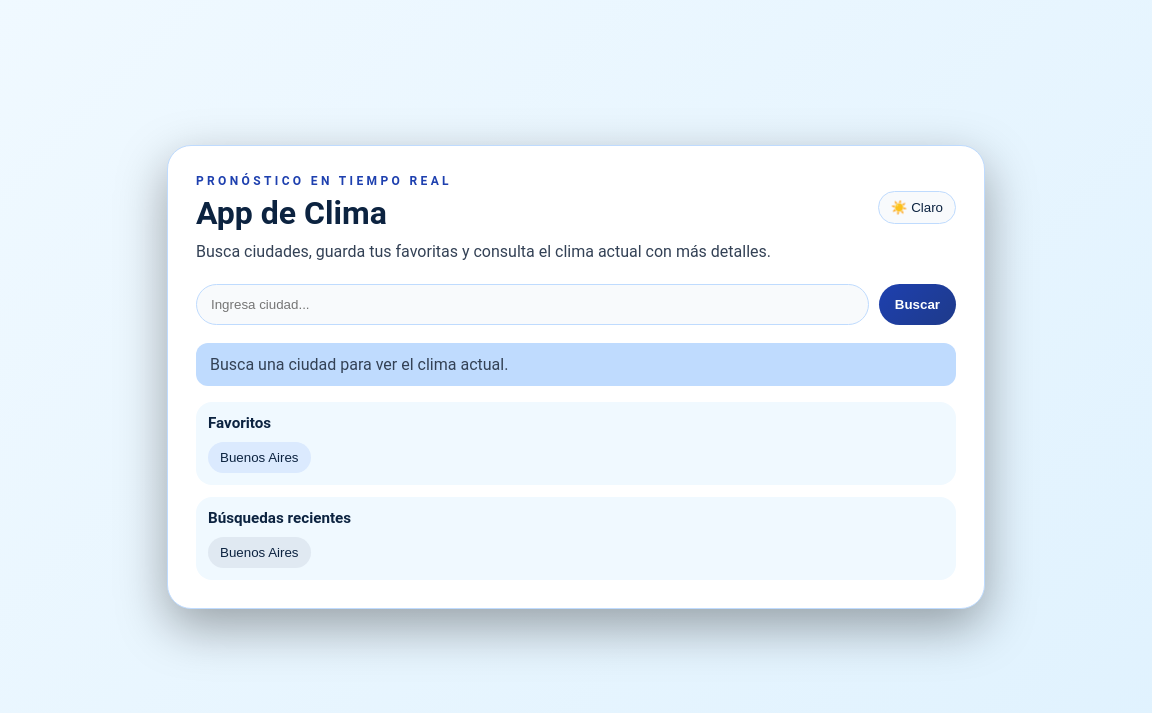
Test: shows a forecast section after a successful search
Type "Buenos Aires" into the field with placeholder "Ingresa ciudad...". click: (532, 304)
box: 196,284 -> 869,325
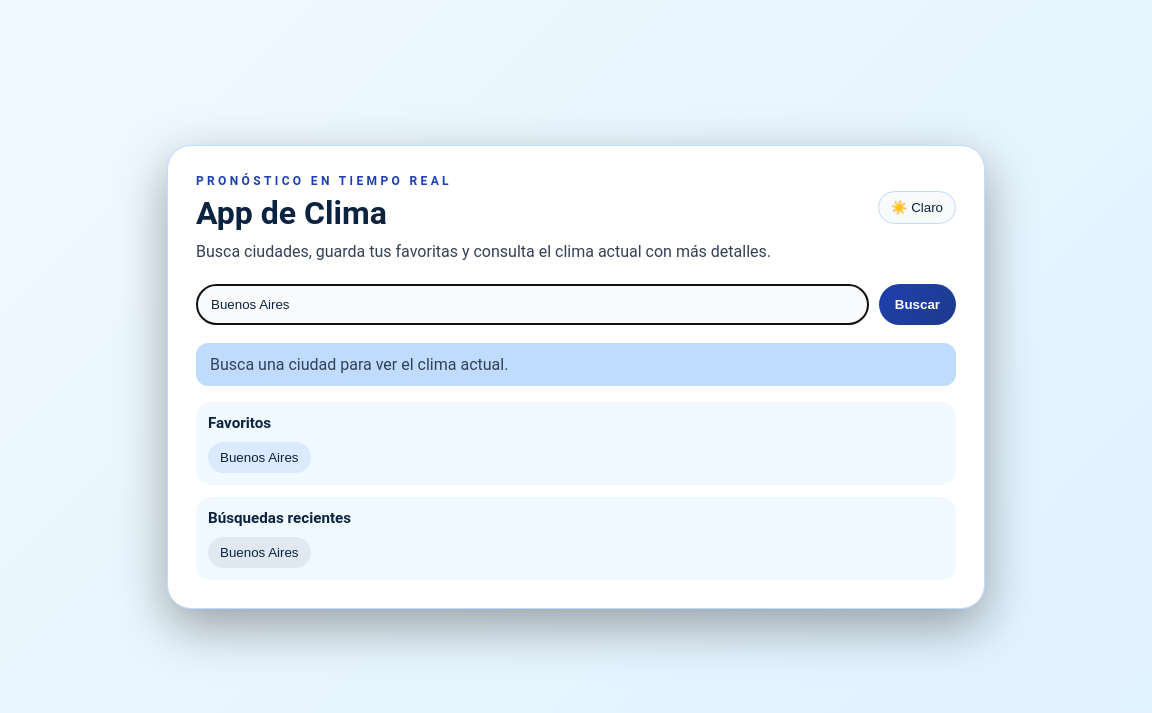
Click the button "Buscar". click: (917, 304)
box: 879,284 -> 956,325
(page scrolled)
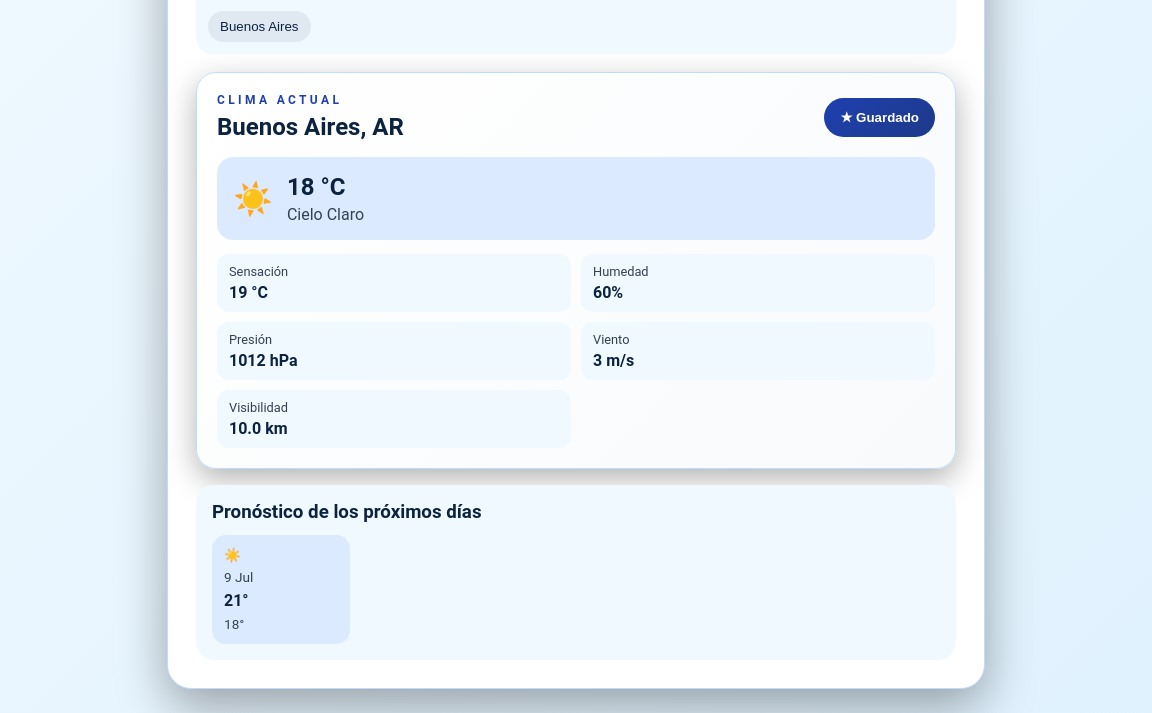
Check: the heading "Pronóstico de los próximos días" is shown, box 212,501 -> 482,523
